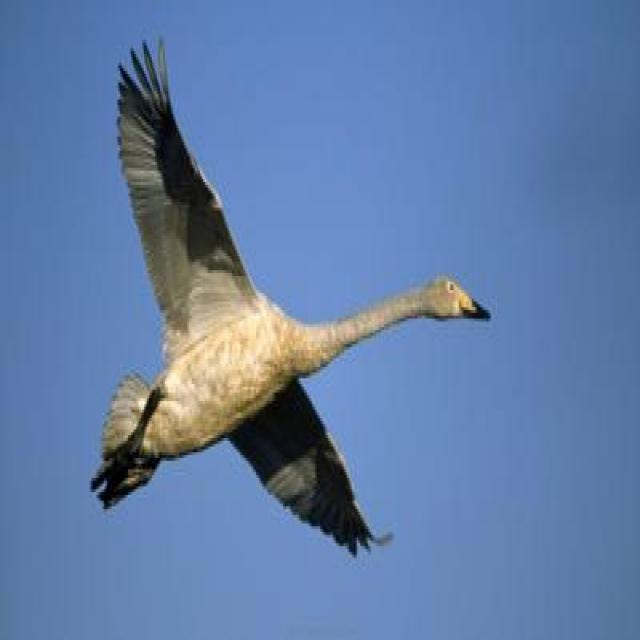birds: (88, 22, 493, 580)
